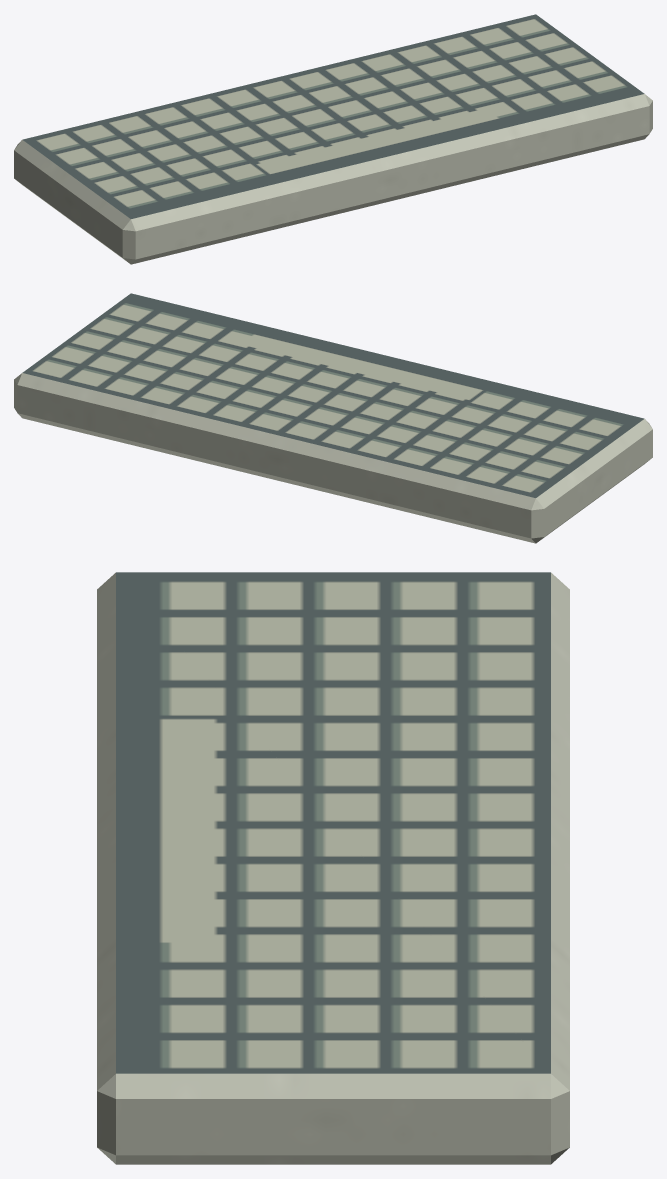
The model's file is MD_116_Keyboard.fbx.
The picture shows the model from 3 angles, top to bottom: view 1: azimuth 30°, elevation 25°; view 2: azimuth 150°, elevation 25°; view 3: azimuth 270°, elevation 25°; orthographic projection. The views are drawn at different scales.
Parts seen in each view (by area): view 1: MD_116_Keyboard_keyboard; view 2: MD_116_Keyboard_keyboard; view 3: MD_116_Keyboard_keyboard.
Part boxes in pixels (left/top/right/bottom): MD_116_Keyboard_keyboard: left=14, top=14, right=652, bottom=264; MD_116_Keyboard_keyboard: left=14, top=293, right=652, bottom=543; MD_116_Keyboard_keyboard: left=97, top=572, right=569, bottom=1164.
Size of the model in its own units: 0.44 by 0.036 by 0.17.
Materials: 2 (2 with a texture image).
